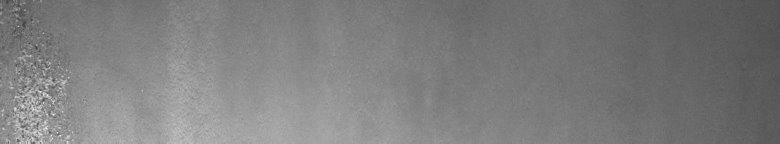hc: (4, 4, 76, 136)
